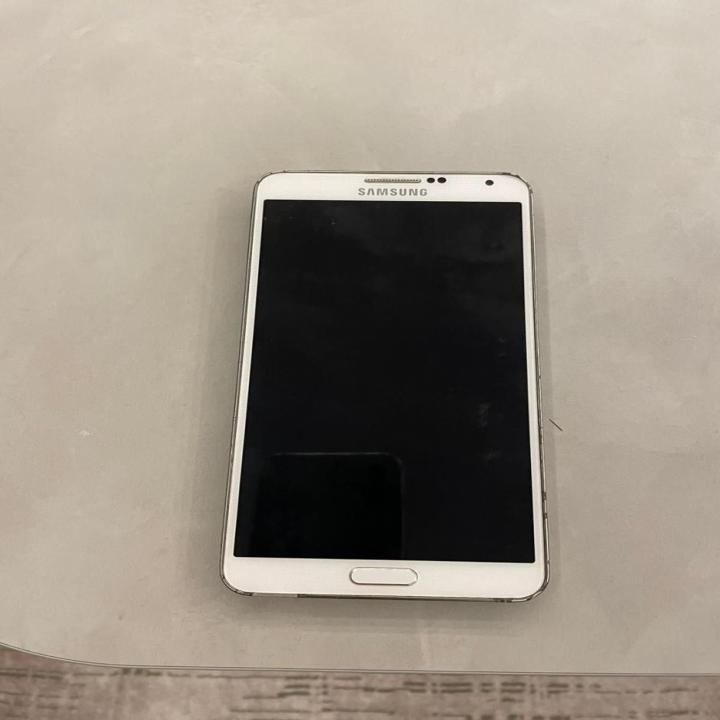Scratches: (269, 430, 402, 476)
